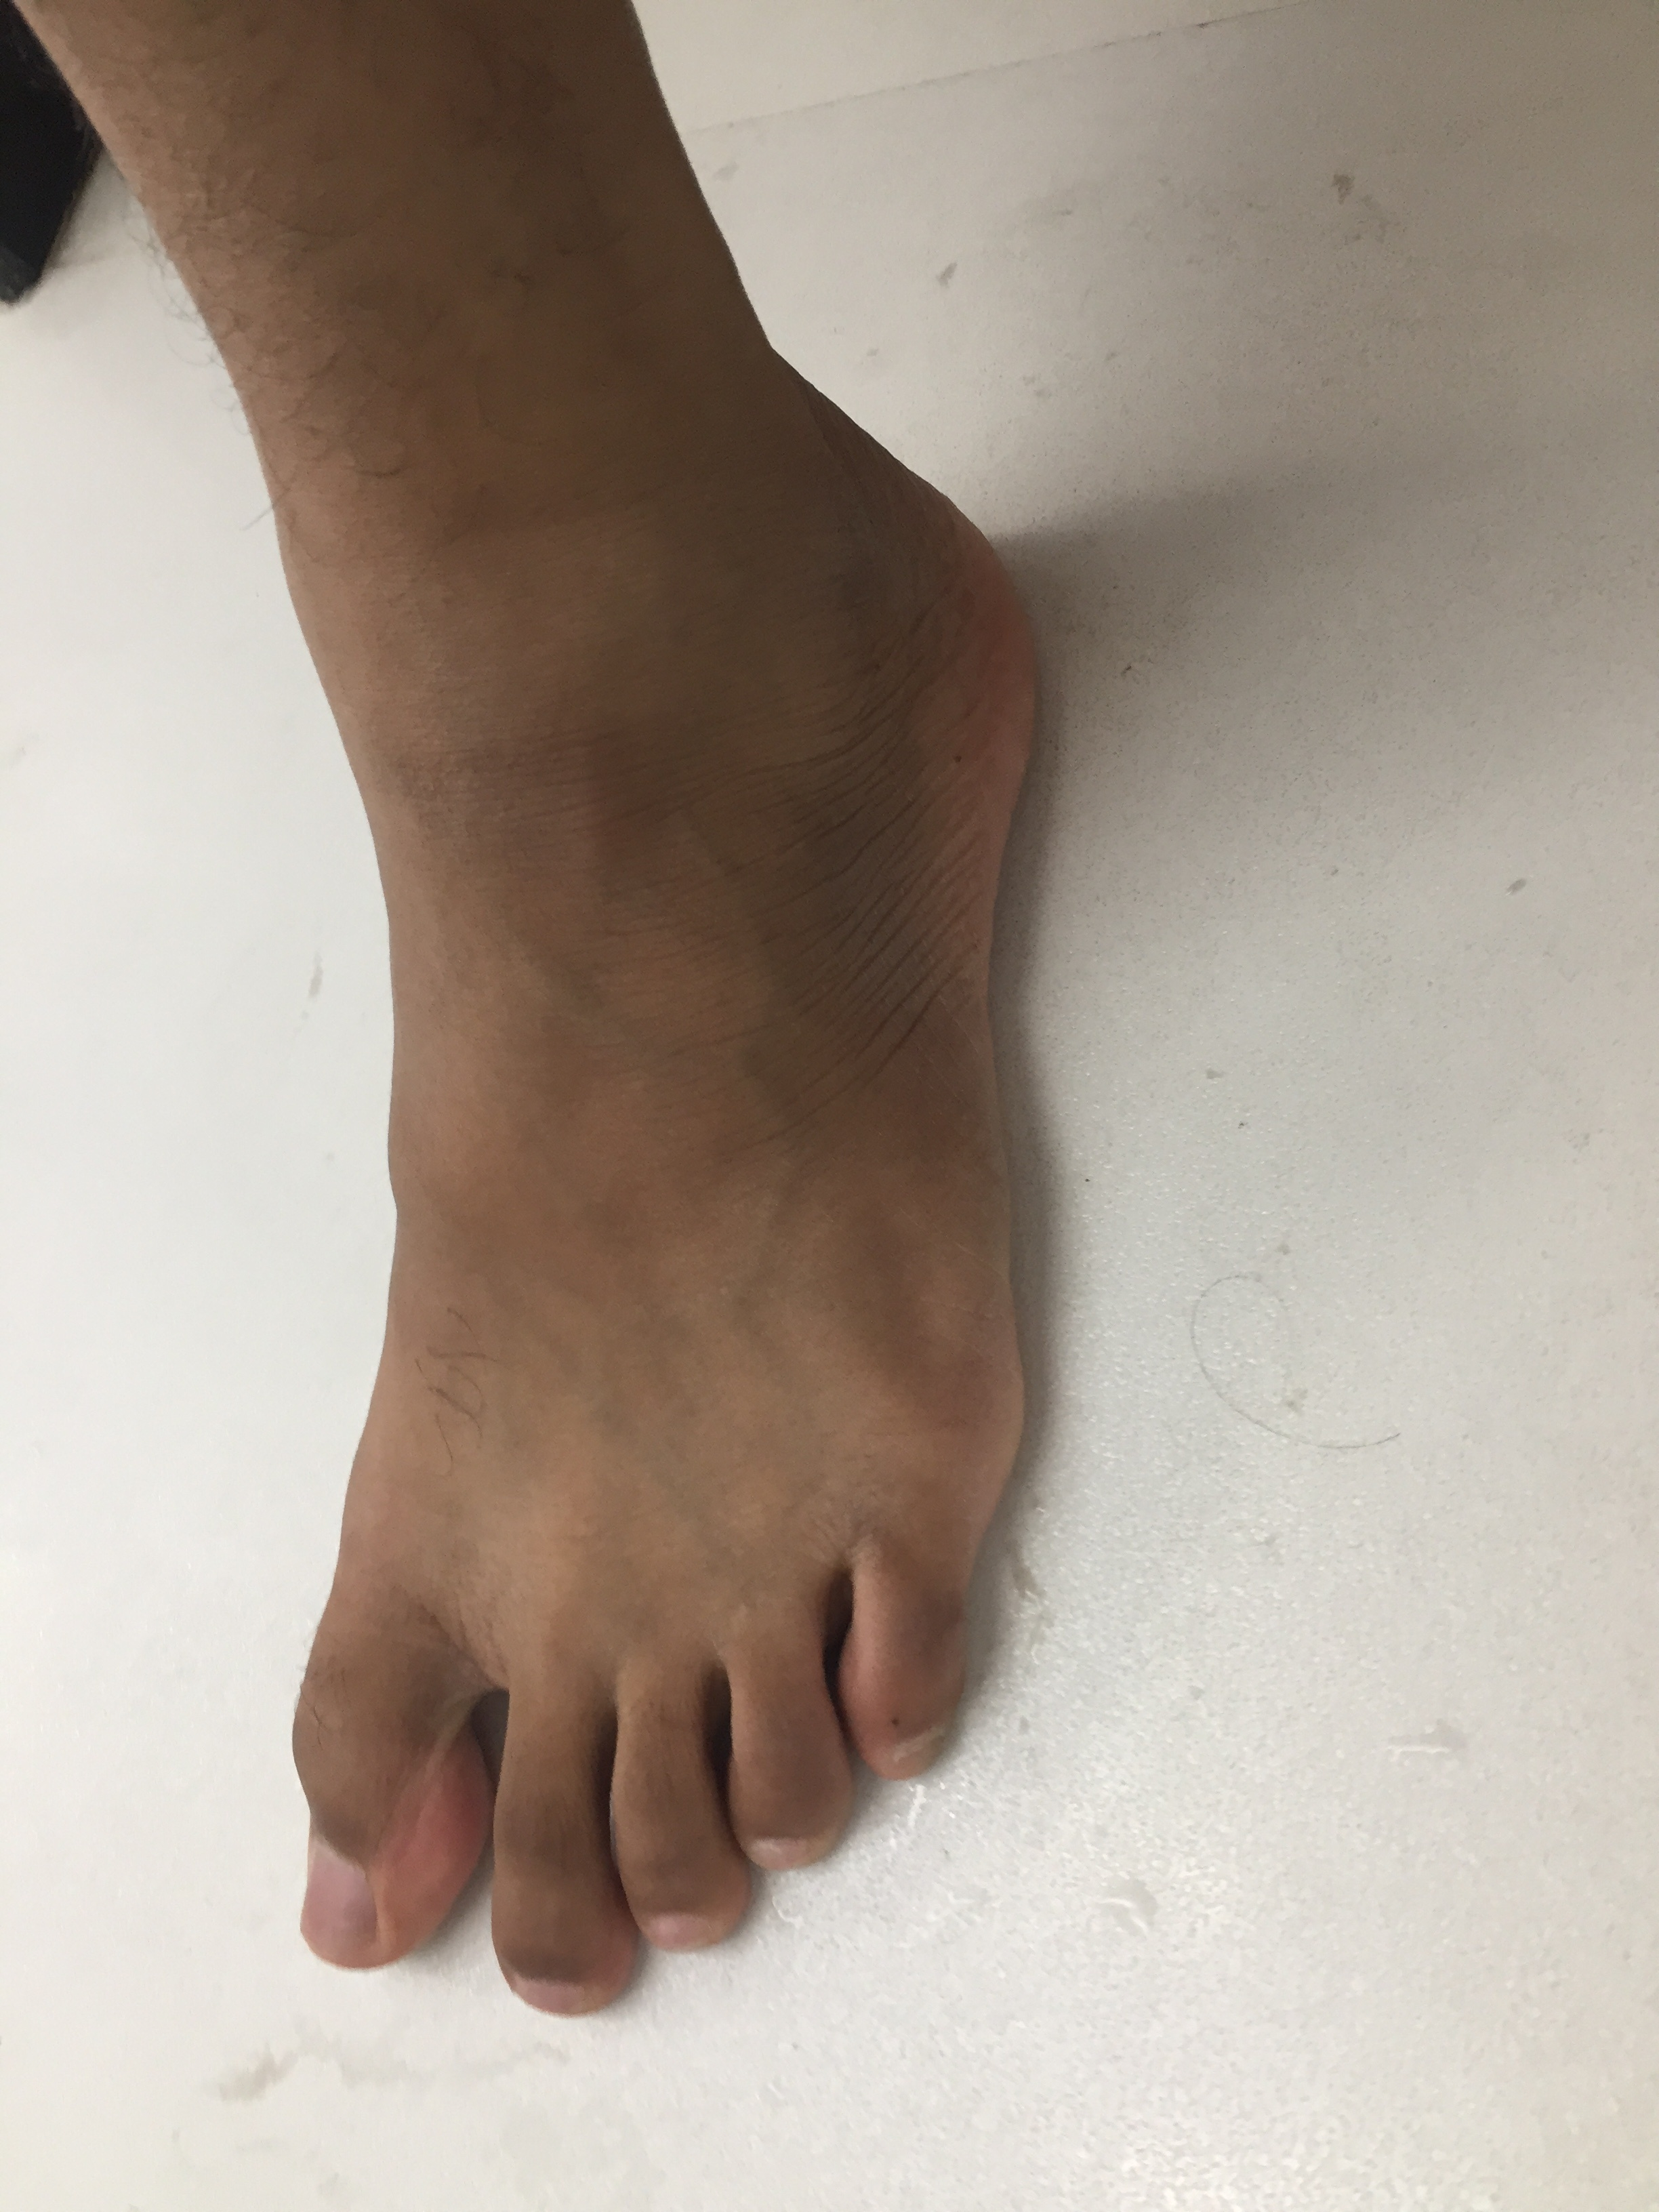feet: (68, 385, 1080, 2019)
